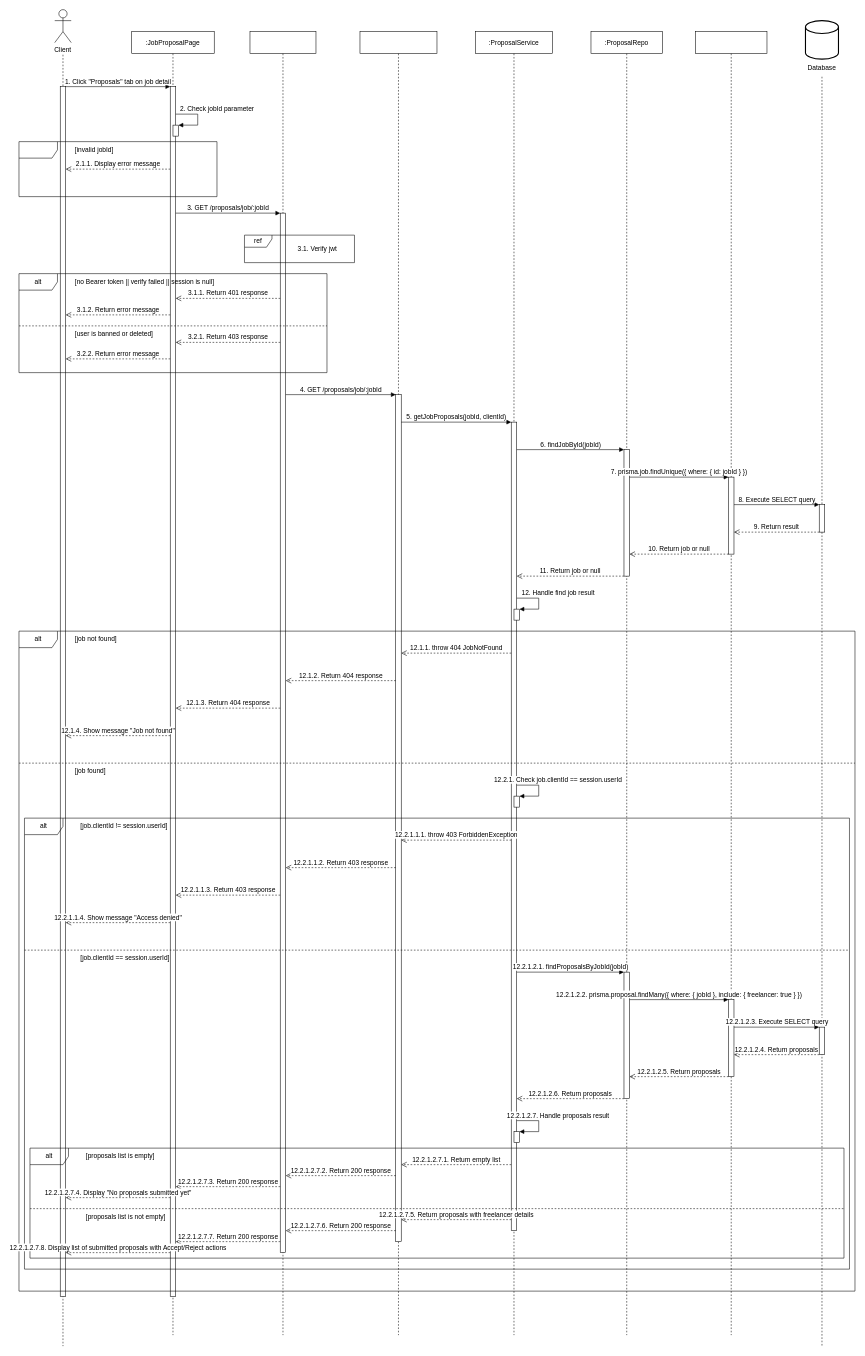
Some shapes in this 865 by 1356 pixel diagram are drawn without their labels. The box of each missing label's shape, as (x1, y1, x2, y2) in pixels:
:PrismaService: (695, 31, 767, 1335)
:ProposalController: (359, 31, 437, 1335)
:ProposalRoute: (249, 31, 316, 1335)
opt: (18, 141, 217, 197)
